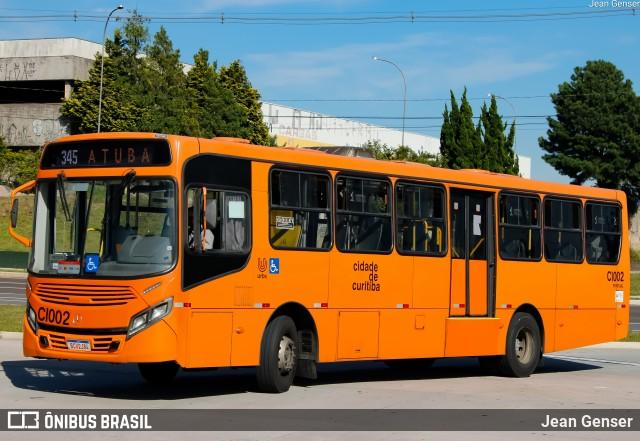ATUBA: (82, 143, 155, 169)
